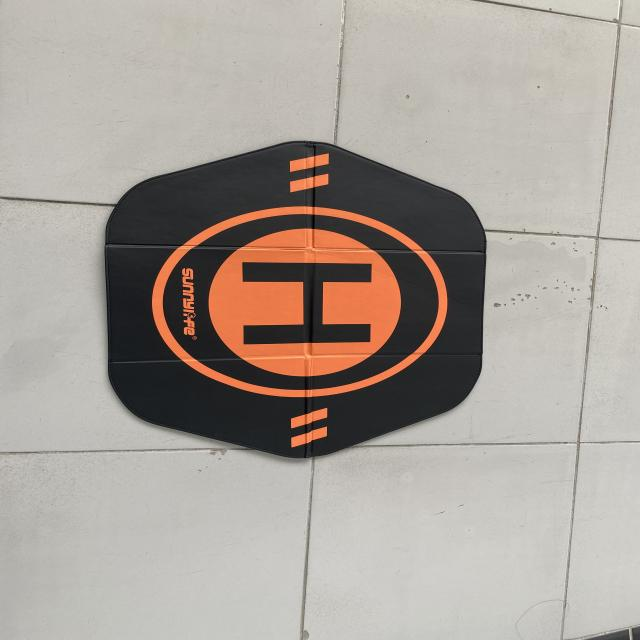helipad: (141, 200, 456, 404)
